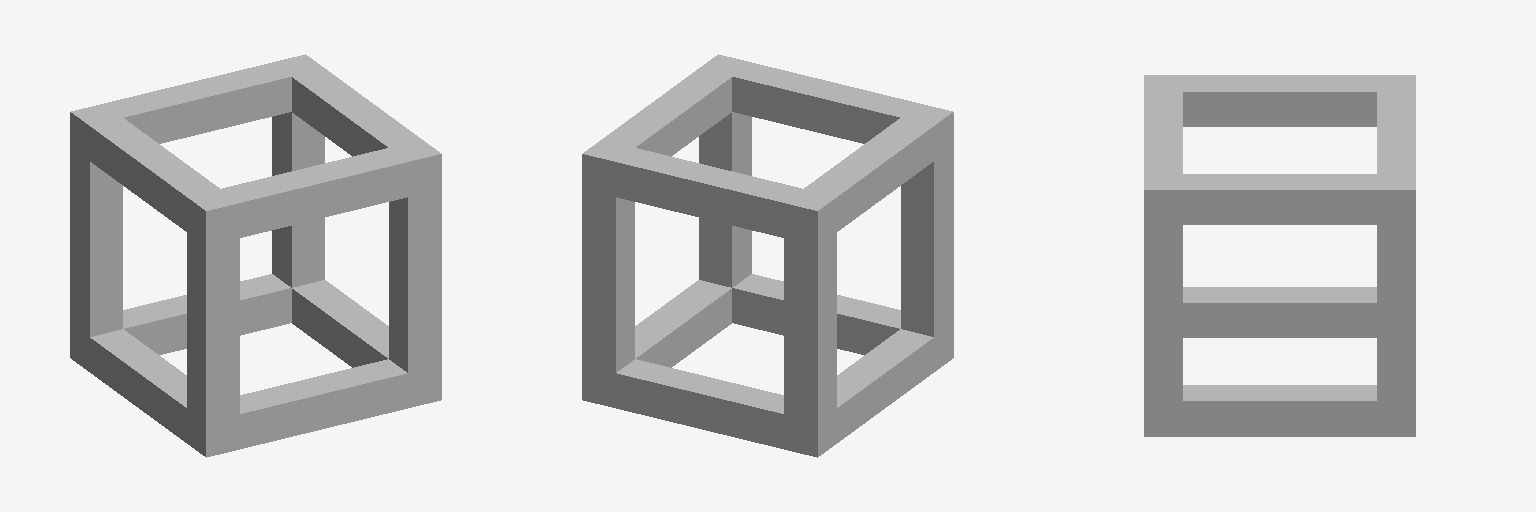
The model's file is Level1_entity_2.obj.
The picture shows the model from 3 angles: view 1: azimuth 30°, elevation 25°; view 2: azimuth 150°, elevation 25°; view 3: azimuth 270°, elevation 25°; orthographic projection.
Parts seen in each view (by area): view 1: Entity_2; view 2: Entity_2; view 3: Entity_2.
Part boxes in pixels (bbox=[...]): Entity_2: bbox=[70, 54, 441, 457]; Entity_2: bbox=[582, 54, 953, 457]; Entity_2: bbox=[1144, 75, 1415, 436].
Size of the model in its own units: 1.4 by 1.4 by 1.4.